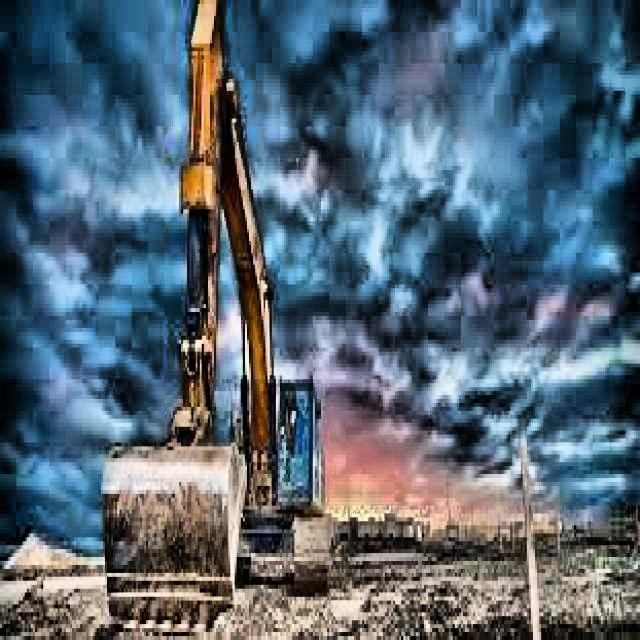bull_dozer/loader/grader: (97, 0, 336, 640)
person: (294, 390, 311, 452)
